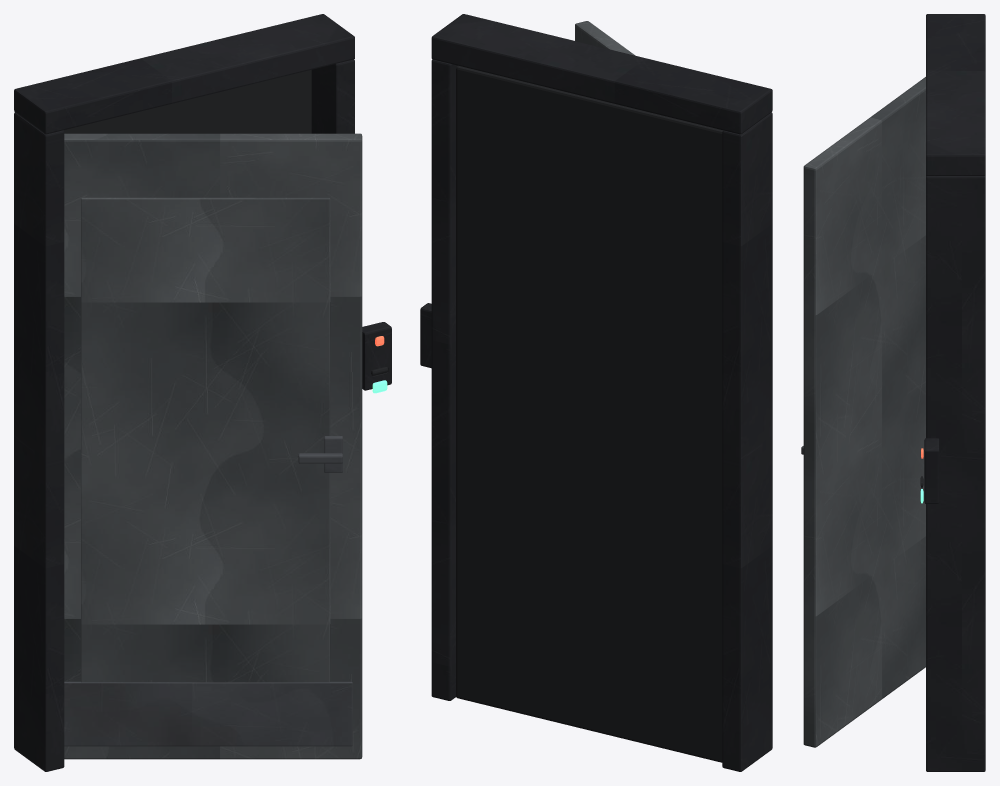
The model's file is door_keycard.glb.
The picture shows the model from 3 angles, left to right: view 1: azimuth 30°, elevation 25°; view 2: azimuth 150°, elevation 25°; view 3: azimuth 270°, elevation 25°; orthographic projection. The views are drawn at different scales.
Parts seen in each view (by area): view 1: door, frame; view 2: frame, door; view 3: door, frame.
Boxes of the visible parts, <box> form: door: <box>64,133,362,759</box>; frame: <box>14,14,391,771</box>; frame: <box>420,14,772,771</box>; door: <box>575,21,634,55</box>; door: <box>801,77,925,747</box>; frame: <box>920,14,985,771</box>.
Bounding box in the file's own units: 1.25 × 2.28 × 0.6169.
6 materials, 4 textured.
